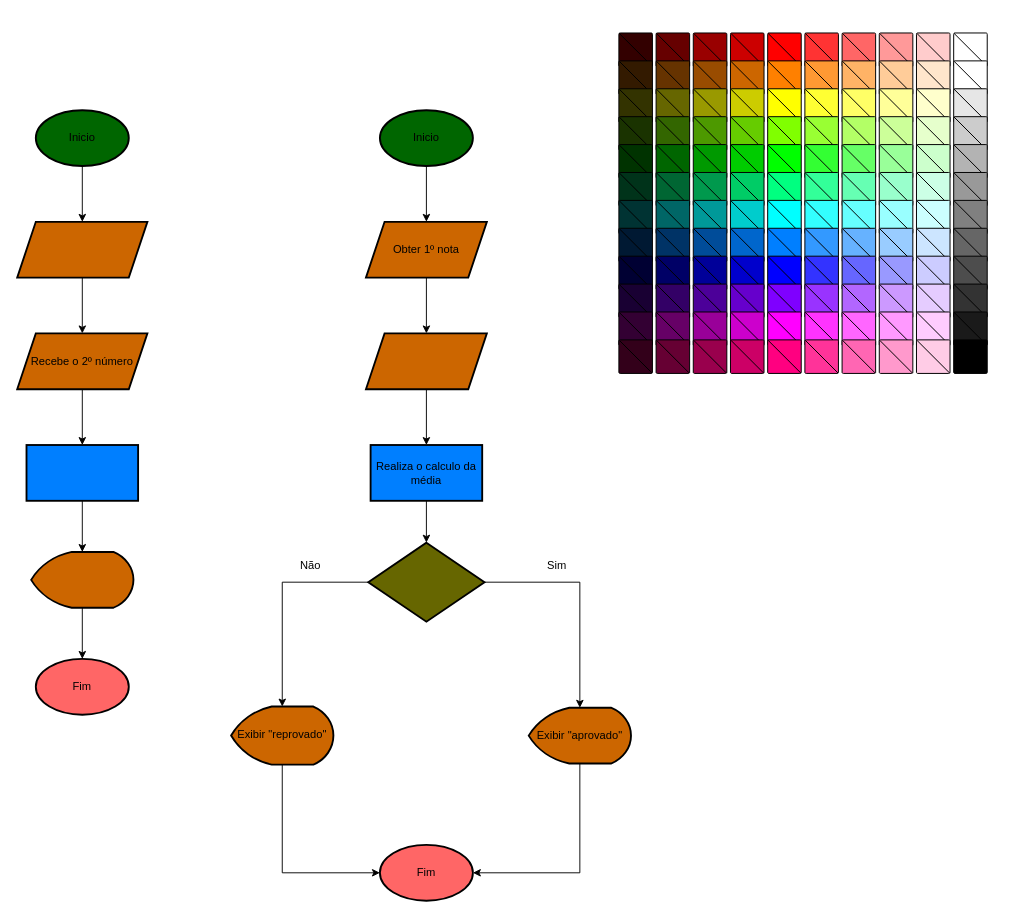
This 1020x918 diagram has some shape labels left out. The centre of each missing label's shape, as x and y in pixels:
Exibe o resultado da soma: point (82, 579)
Média acima de 7?: point (426, 581)
Obter 2º nota: point (426, 361)
Realiza a soma dos resultados obtidos: point (82, 472)
Recebe o 1º número: point (82, 249)
